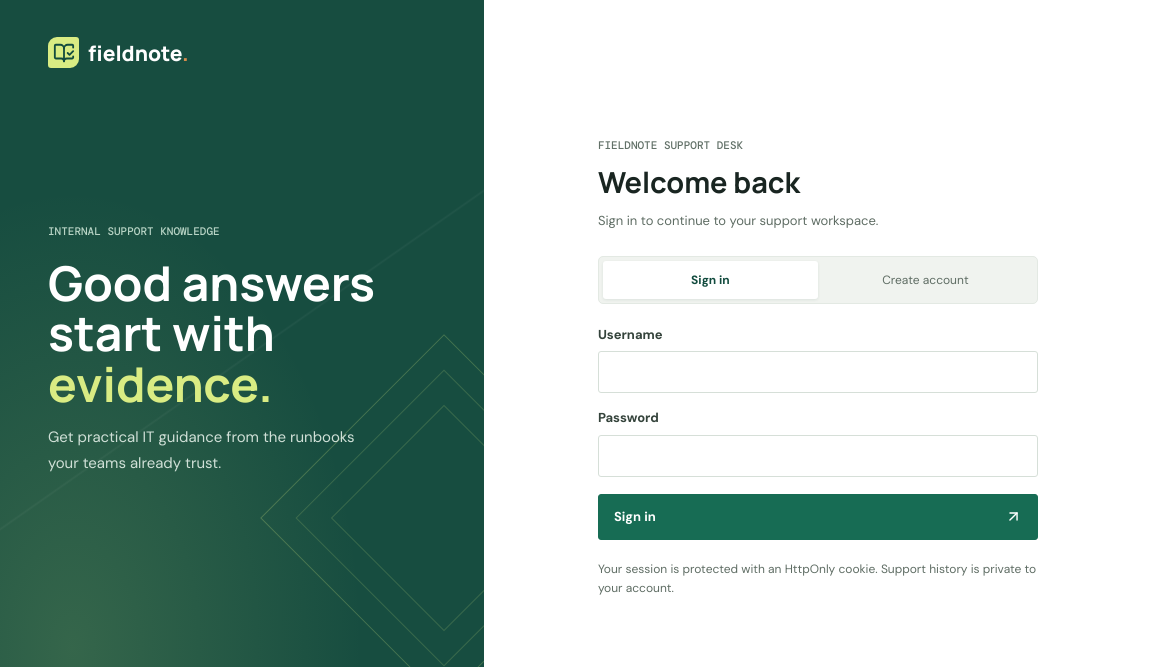
it: LoginPage › opens and closes the data policy from the login screen
Step 1. Click the tab "Create account" → (925, 280), box x1=818 y1=261 x2=1033 y2=299
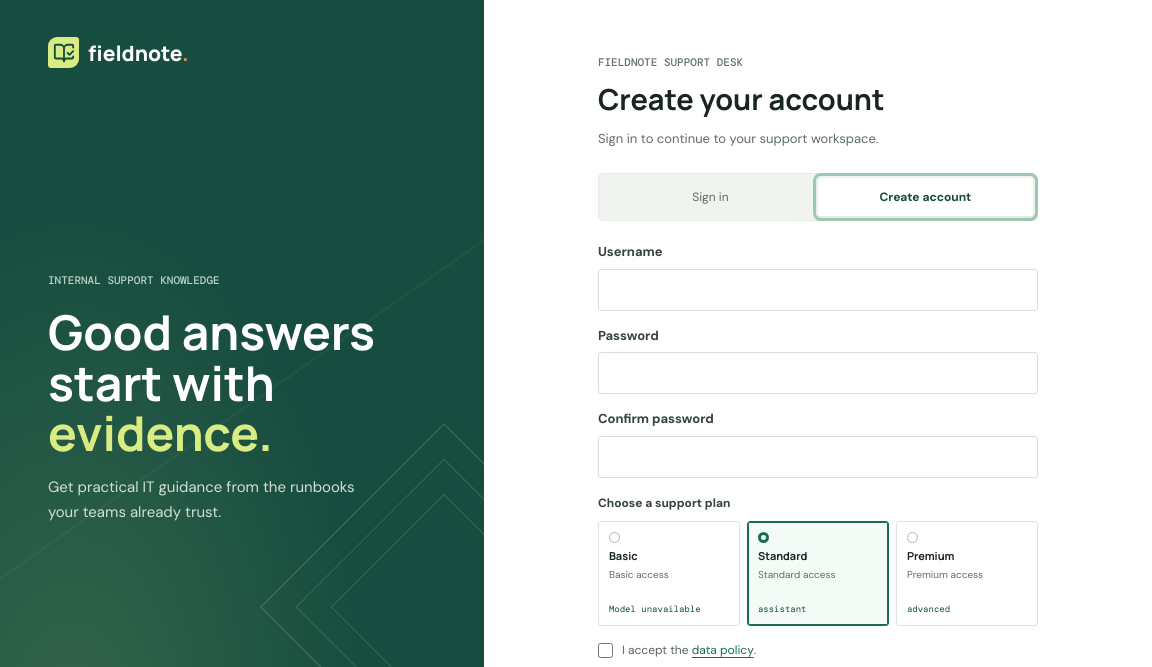
Step 2. Click the button "data policy" → (723, 650), box x1=692 y1=640 x2=754 y2=658
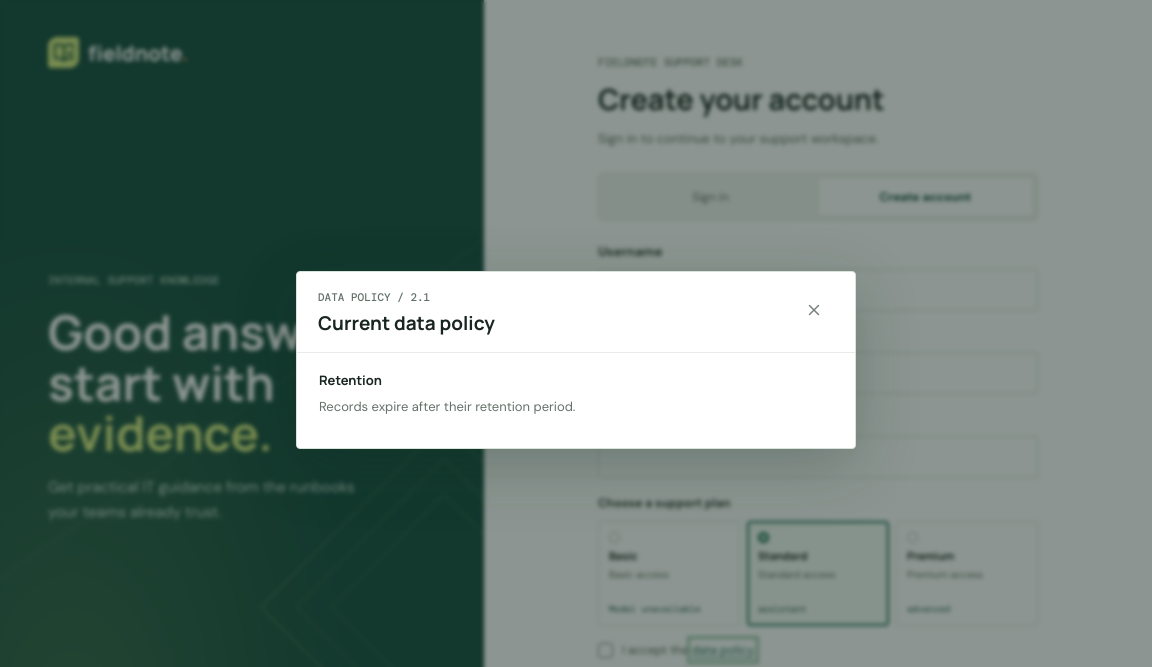
Result: the dialog "Current data policy" is shown at x1=296 y1=271 x2=856 y2=449
Step 3. Click the button named "Close policy" → (814, 310), box x1=794 y1=290 x2=834 y2=330
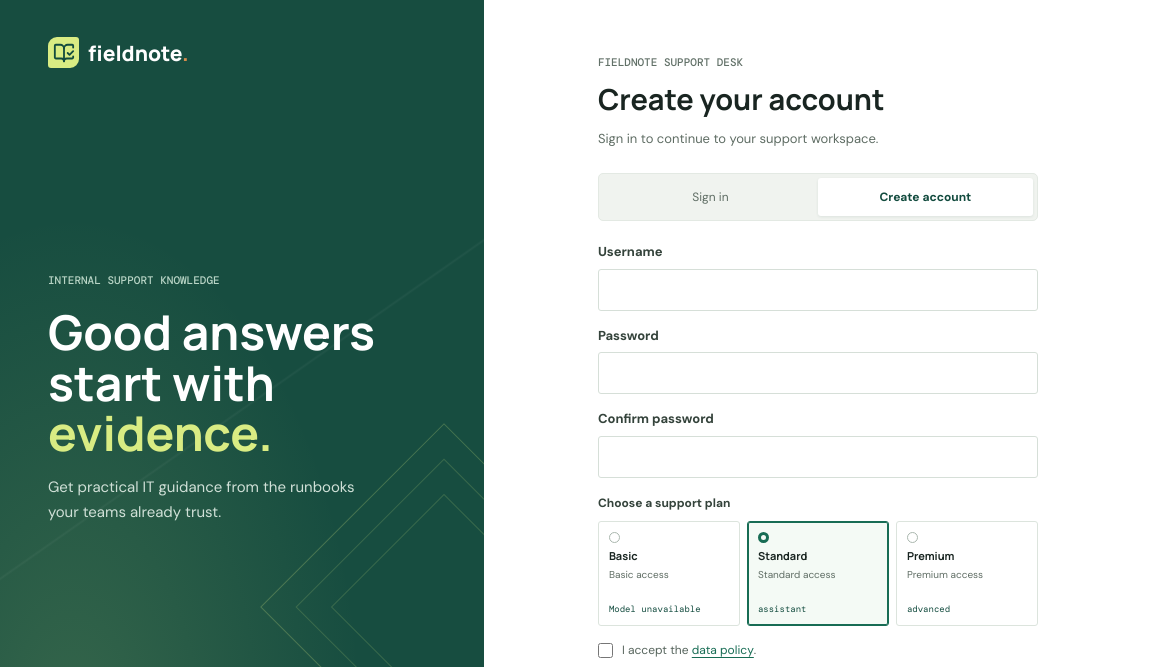
Result: the dialog is gone
